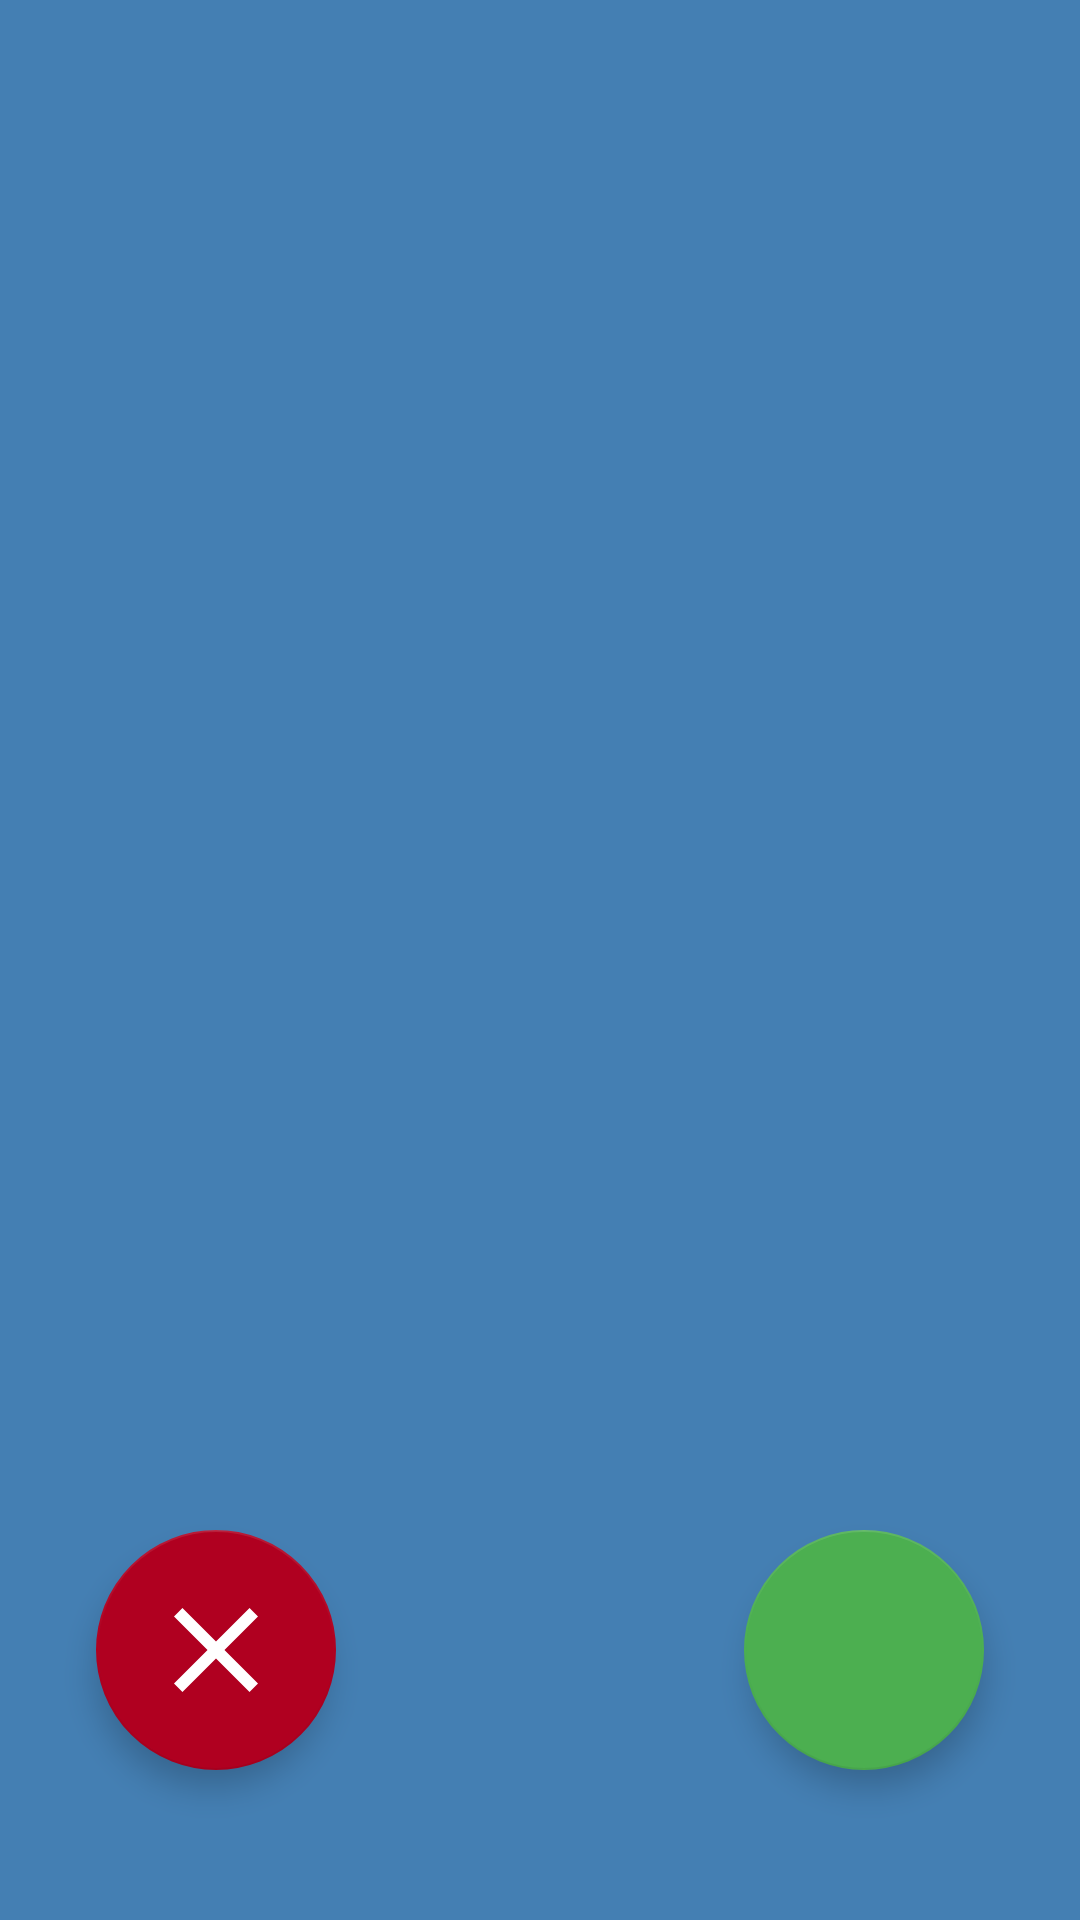

Locate icon controls on the screen. Image size 1080px x 1920px, boxes as [x1, y1, x2, y2].
close: [96, 1530, 336, 1770]
